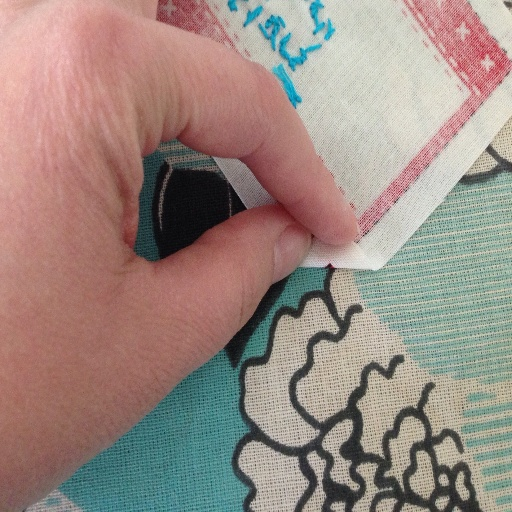hand: (0, 0, 359, 511)
